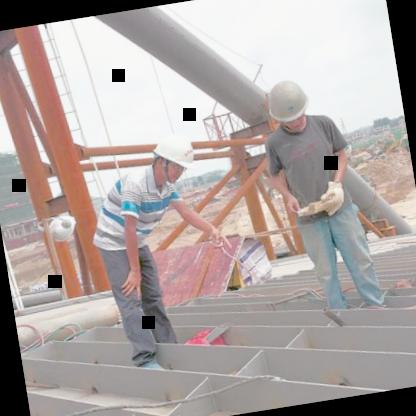helmet: (140, 122, 204, 192), (263, 75, 317, 138)
